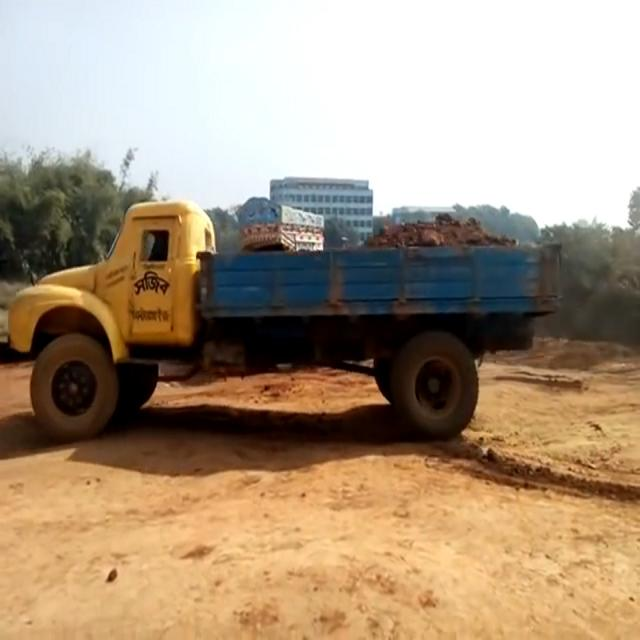truck: (0, 176, 568, 479)
